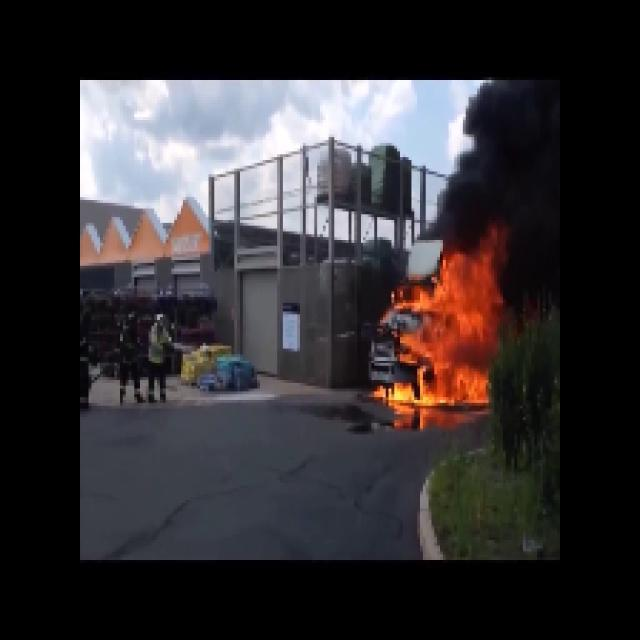Fire: (400, 254, 492, 410)
Smoke: (460, 80, 560, 254)
